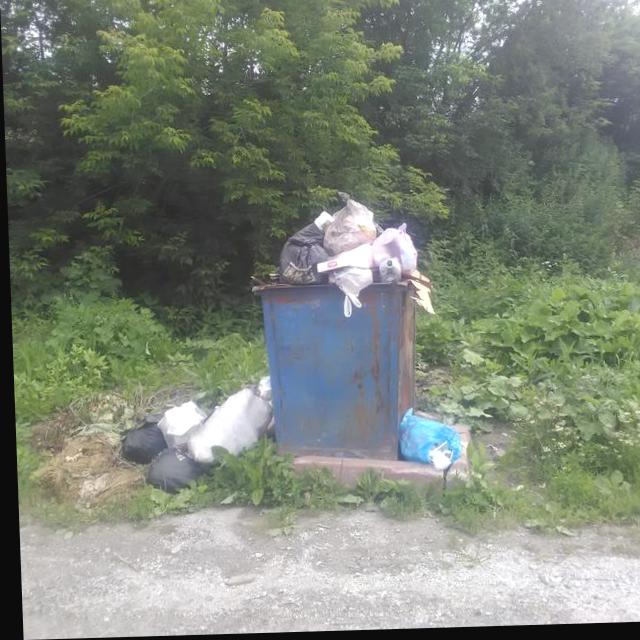Trash_Can_Full: (249, 194, 433, 463)
